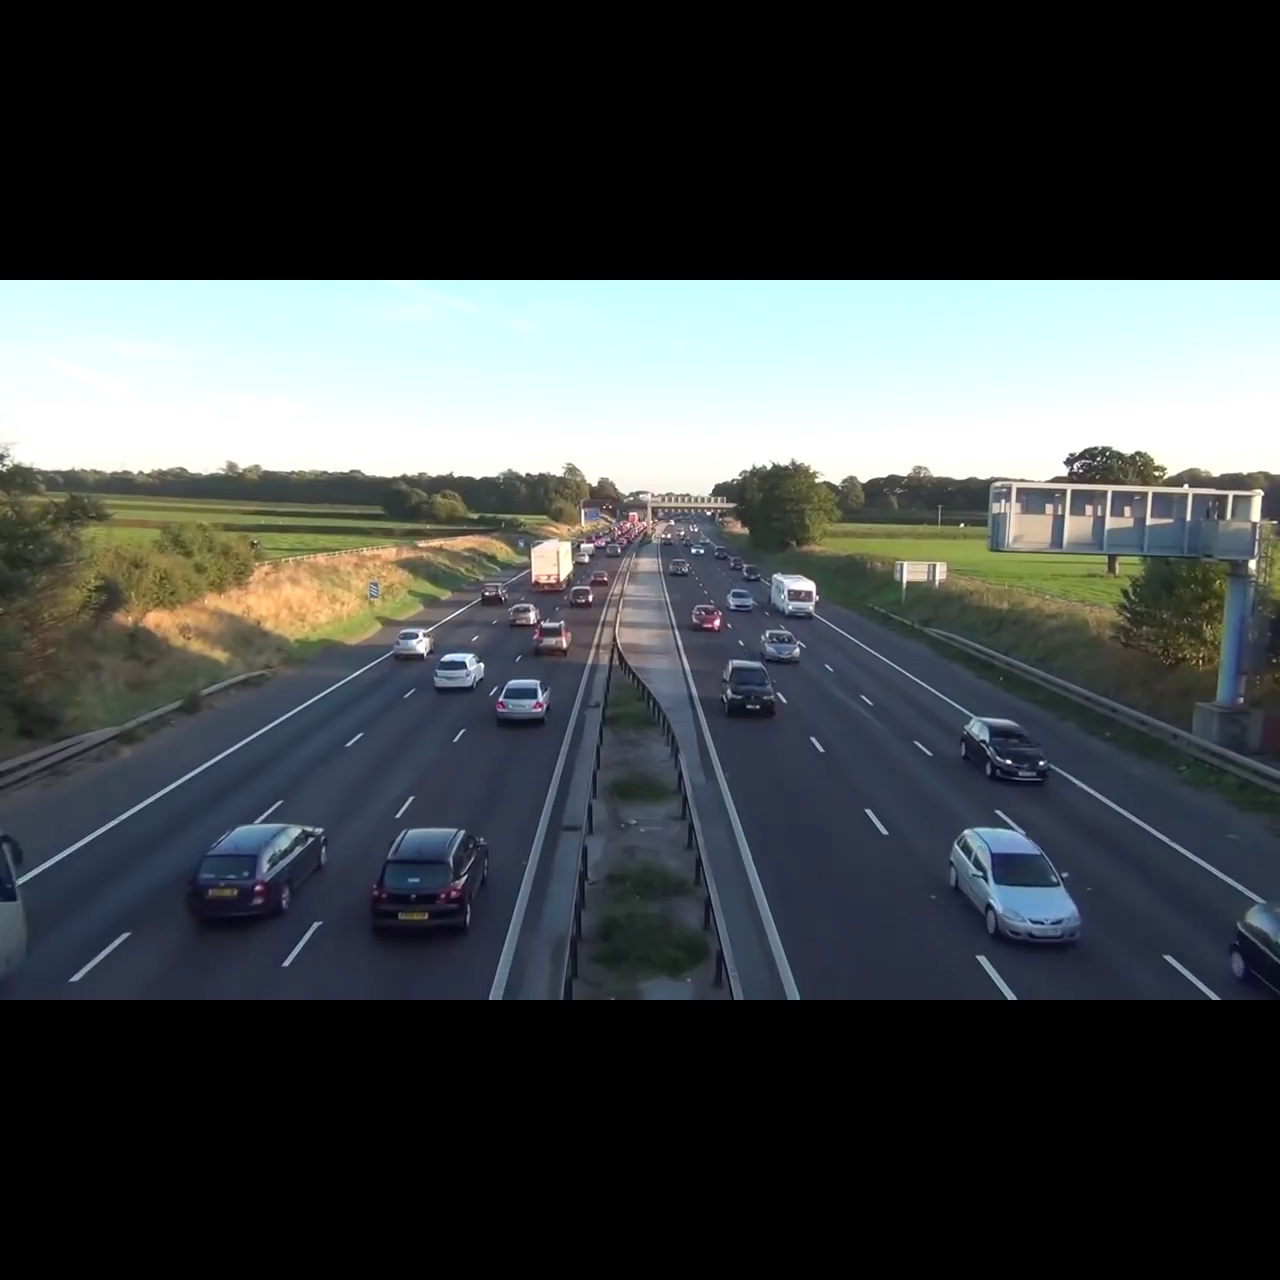vehicle: (946, 821, 1087, 949), (179, 821, 336, 931), (367, 823, 496, 942), (956, 712, 1056, 788), (716, 658, 779, 722), (493, 678, 554, 726), (526, 542, 574, 592), (769, 571, 821, 618), (433, 651, 488, 693), (758, 627, 803, 665), (531, 620, 576, 658), (392, 626, 437, 659), (690, 604, 726, 632), (506, 602, 542, 627), (726, 588, 758, 612), (481, 581, 510, 605), (568, 585, 593, 608), (668, 558, 692, 578), (591, 568, 610, 587)
